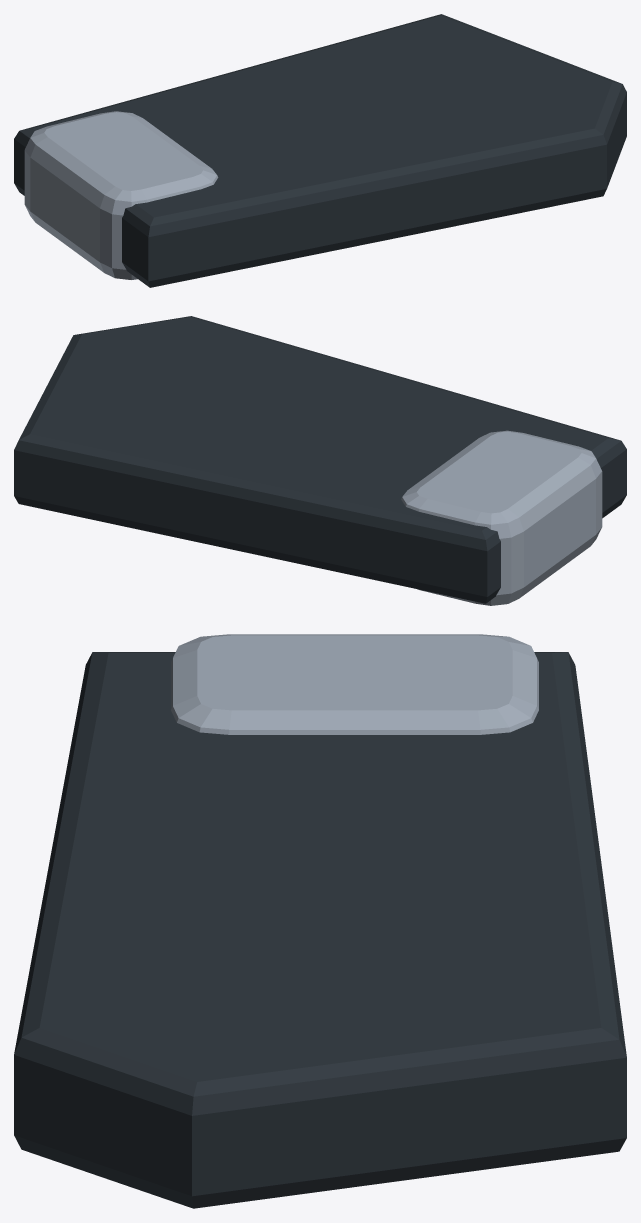
The model's file is aurora_x9_wing.gltf.
3 views of the same model, one above another, from view 1: azimuth 30°, elevation 25°; view 2: azimuth 150°, elevation 25°; view 3: azimuth 270°, elevation 25° (orthographic). The views are drawn at different scales.
Parts seen in each view (by area): view 1: aurora_x9_wing; view 2: aurora_x9_wing; view 3: aurora_x9_wing.
Part boxes in pixels (x1,y1,x2,y2): aurora_x9_wing: [14, 14, 626, 287]; aurora_x9_wing: [14, 316, 626, 605]; aurora_x9_wing: [14, 634, 626, 1208].
Size of the model in its own units: 1.1 by 0.18 by 0.622.
